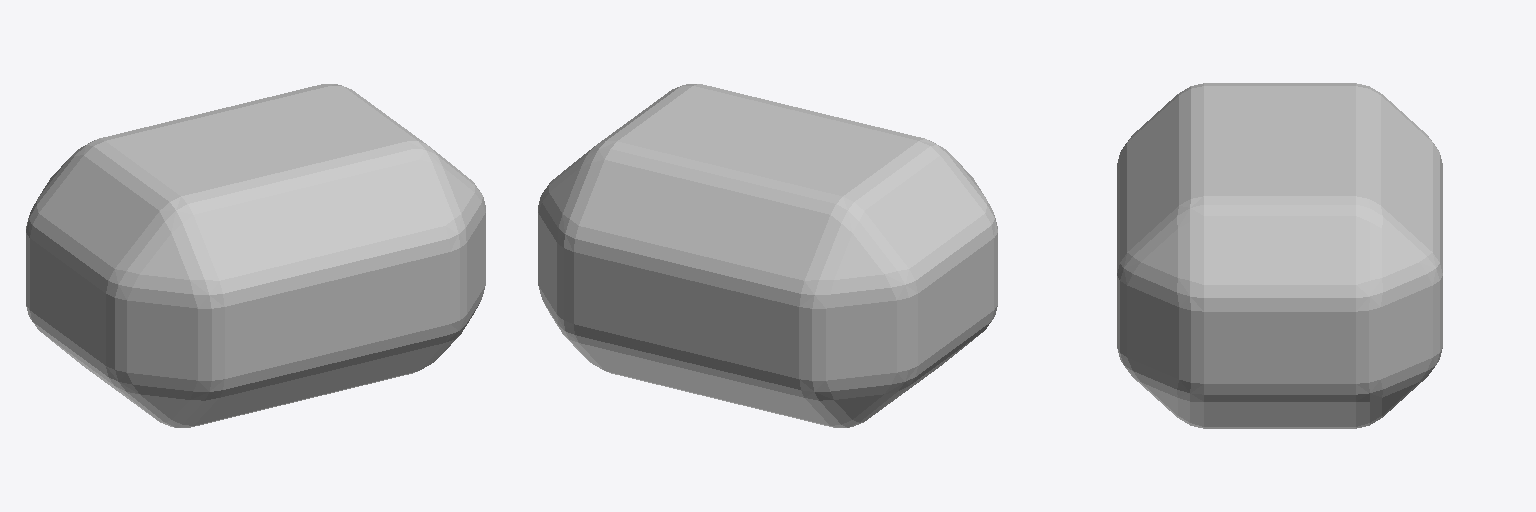
The model's file is gem_type_1.obj.
3 views of the same model, side by side, from view 1: azimuth 30°, elevation 25°; view 2: azimuth 150°, elevation 25°; view 3: azimuth 270°, elevation 25° (orthographic).
Visible parts, largest first — view 1: gem_type_1; view 2: gem_type_1; view 3: gem_type_1.
Boxes of the visible parts, <box> form: gem_type_1: <box>26,84,485,427</box>; gem_type_1: <box>538,84,997,427</box>; gem_type_1: <box>1117,83,1442,428</box>.
Size of the model in its own units: 0.6 by 0.35 by 0.45.